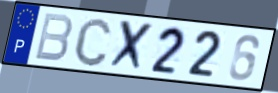2: (147, 23, 188, 77), (184, 29, 223, 80)
6: (227, 33, 261, 83)
B: (32, 11, 74, 63)
C: (71, 16, 113, 68)
X: (106, 18, 156, 74)
